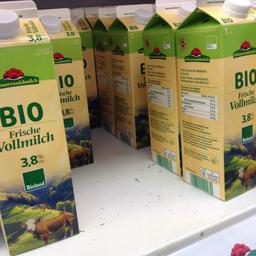milk: (0, 0, 82, 255), (176, 0, 255, 201), (36, 7, 98, 169)
